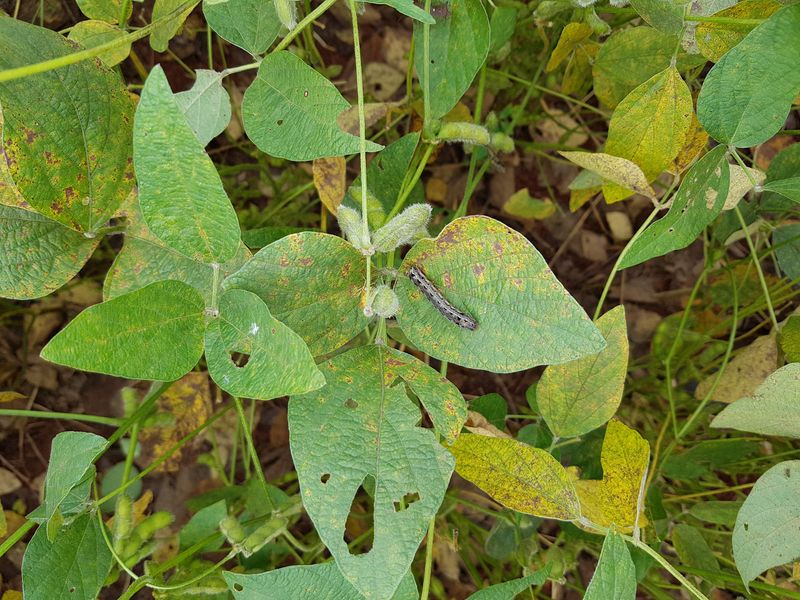Spodoptera_albula: (393, 255, 489, 348)
